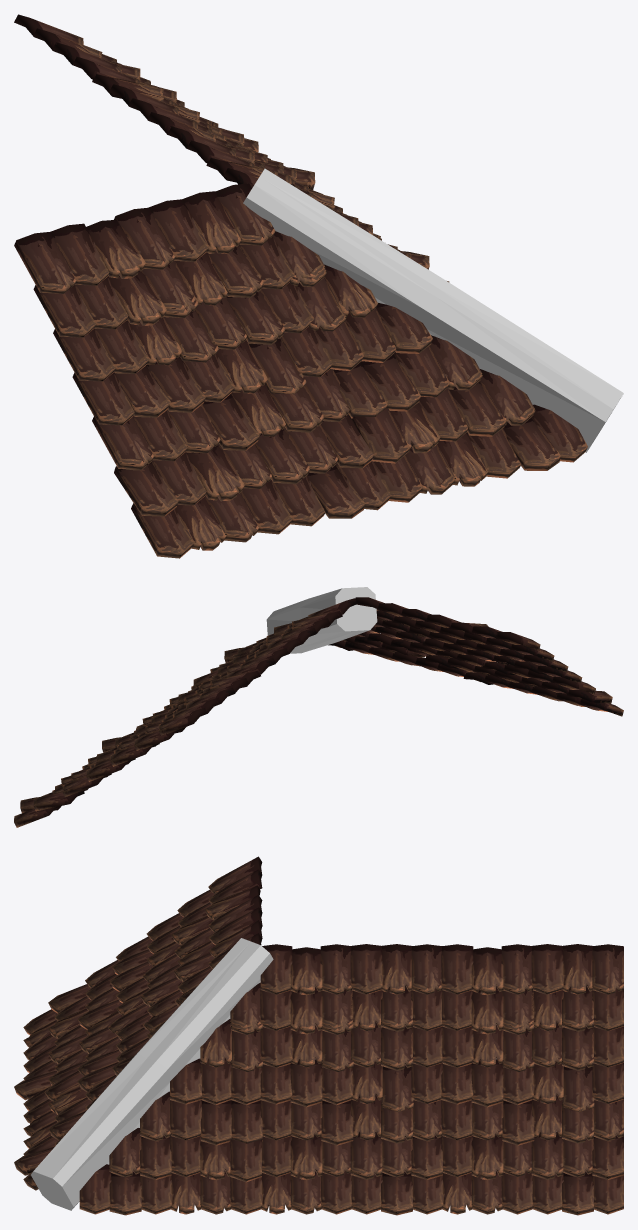
The model's file is VV-RoofTile20.fbx.
The picture shows the model from 3 angles, top to bottom: view 1: azimuth 30°, elevation 25°; view 2: azimuth 150°, elevation 25°; view 3: azimuth 270°, elevation 25°; orthographic projection. The views are drawn at different scales.
Visible parts, largest first — view 1: RoofTile.20; view 2: RoofTile.20; view 3: RoofTile.20.
Boxes of the visible parts, bbox=[...] form: RoofTile.20: bbox=[14, 14, 623, 558]; RoofTile.20: bbox=[14, 587, 623, 827]; RoofTile.20: bbox=[14, 856, 623, 1215].
Bounding box in the file's own units: 4.55 × 2.03 × 6.07.
